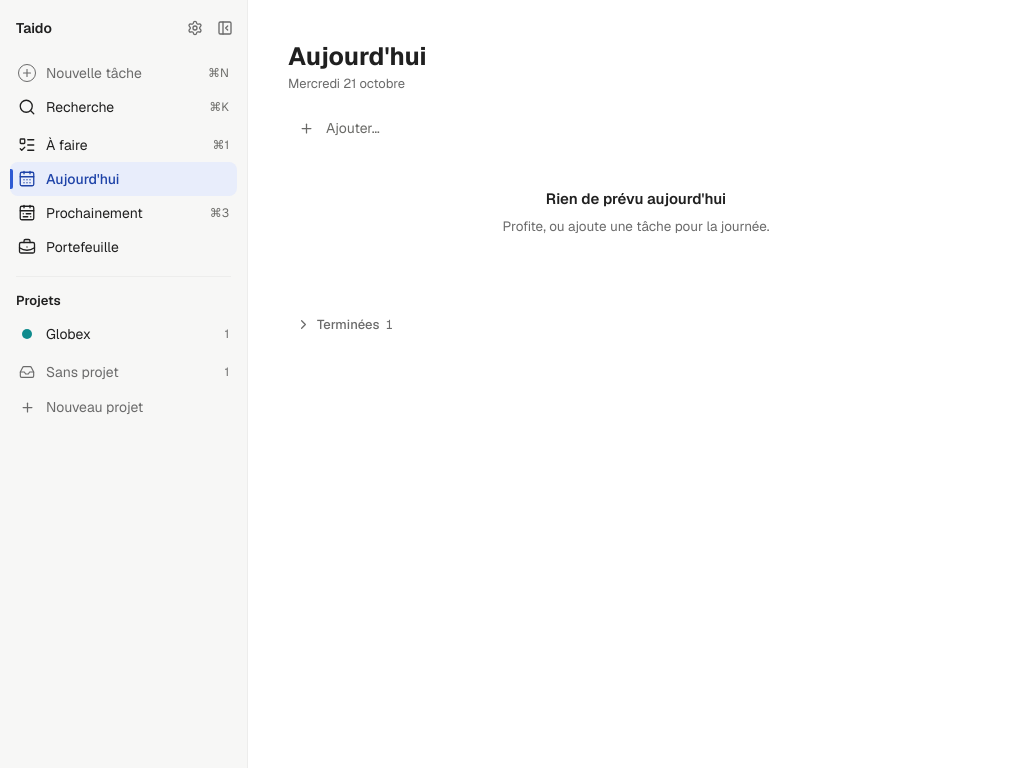
Test case: ⌘K « Aller à une tâche » › offers to retry when the search fails
Click the button "Recherche ⌘K": (124, 107) [10,90,237,124]
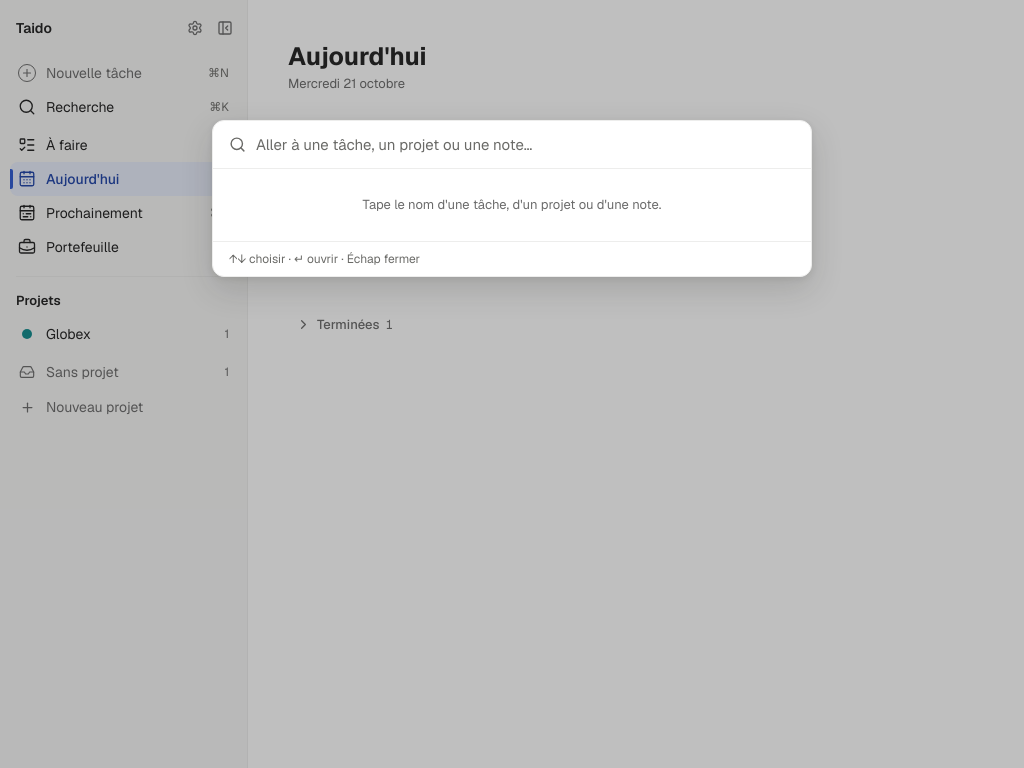
In the dropdown named "Rechercher une tâche ou une note": (526, 144) [256,121,795,168], type "csv"
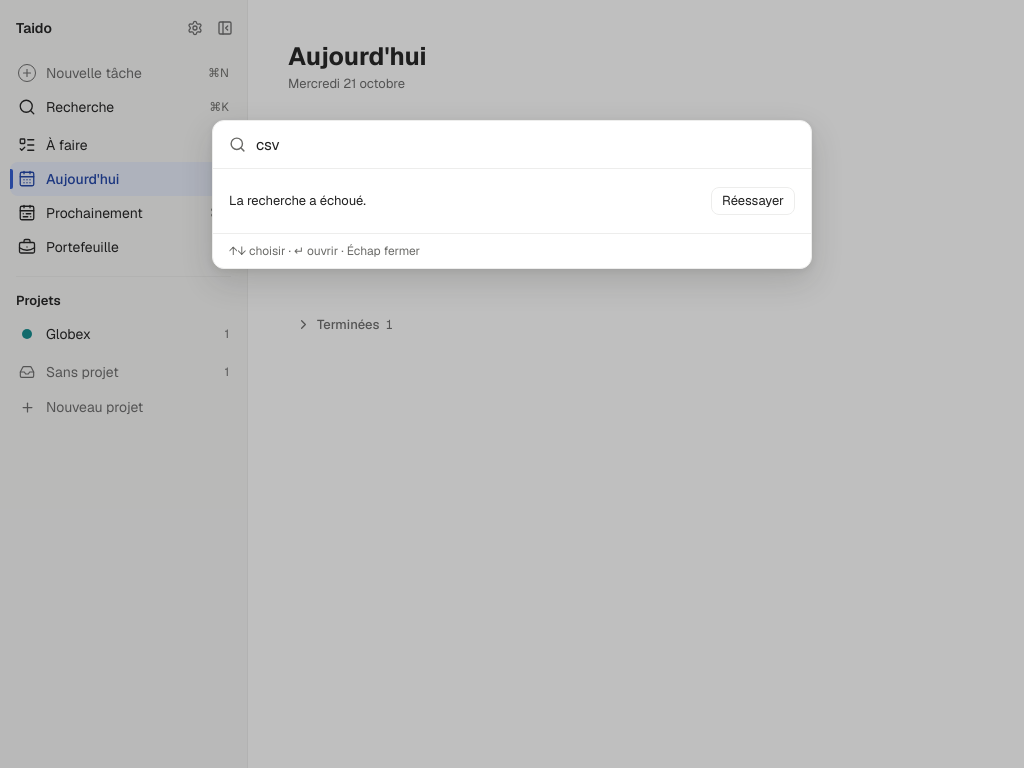
Check: the text "La recherche a échoué." is shown, box [229,191,366,211]
Click the button "Réessayer": (753, 201) [711,187,795,215]
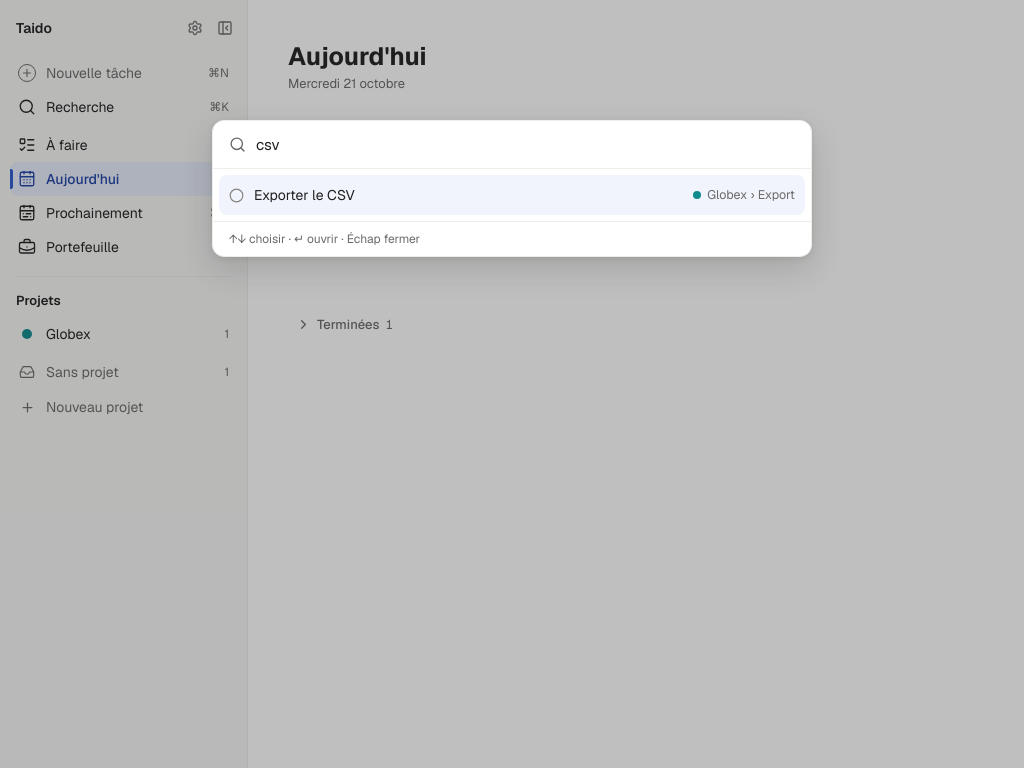
Check: the option "Exporter le CSV Globex › Export" is shown, box [219,175,805,215]
